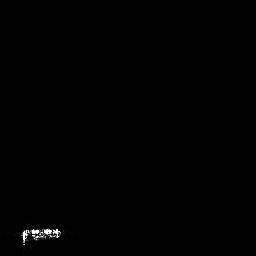ship: (18, 226, 63, 248)
